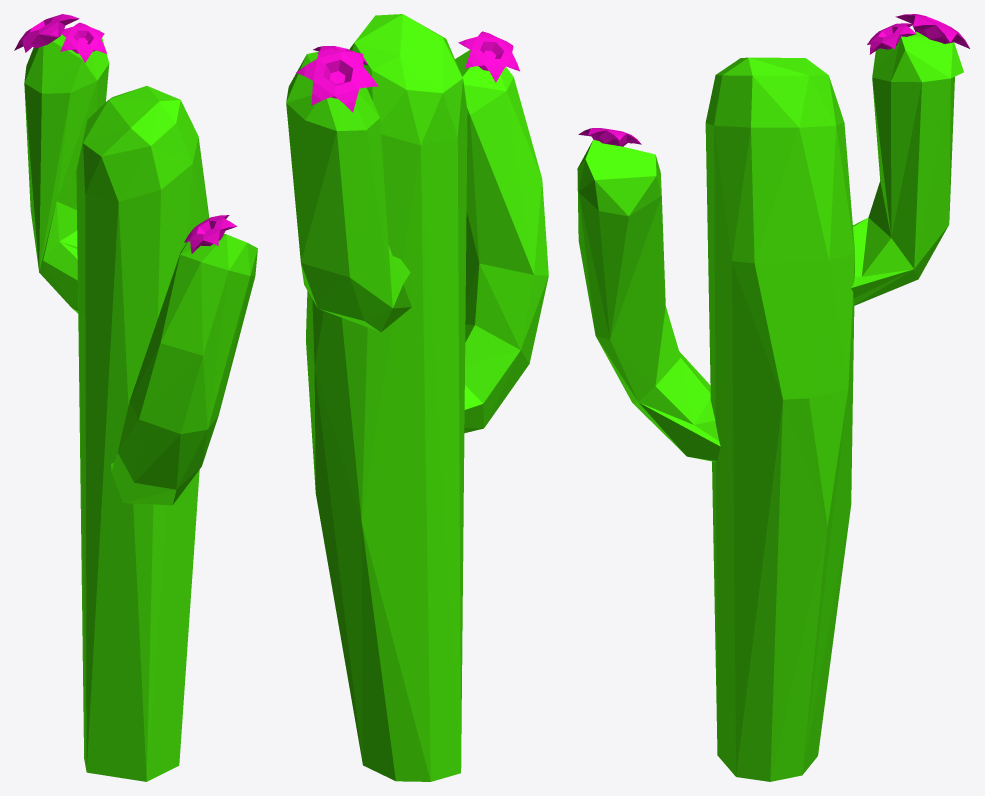
Rendered from M_CactusMultiFleur.FBX.
The picture shows the model from 3 angles, left to right: view 1: azimuth 30°, elevation 25°; view 2: azimuth 150°, elevation 25°; view 3: azimuth 270°, elevation 25°; orthographic projection. The views are drawn at different scales.
Parts seen in each view (by area): view 1: CactusMultiFleur; view 2: CactusMultiFleur; view 3: CactusMultiFleur.
Part boxes in pixels (x1,y1,x2,y2): CactusMultiFleur: [14, 14, 257, 781]; CactusMultiFleur: [286, 14, 548, 781]; CactusMultiFleur: [577, 14, 969, 781].
Size of the model in its own units: 13.54 by 64.2 by 30.79.
